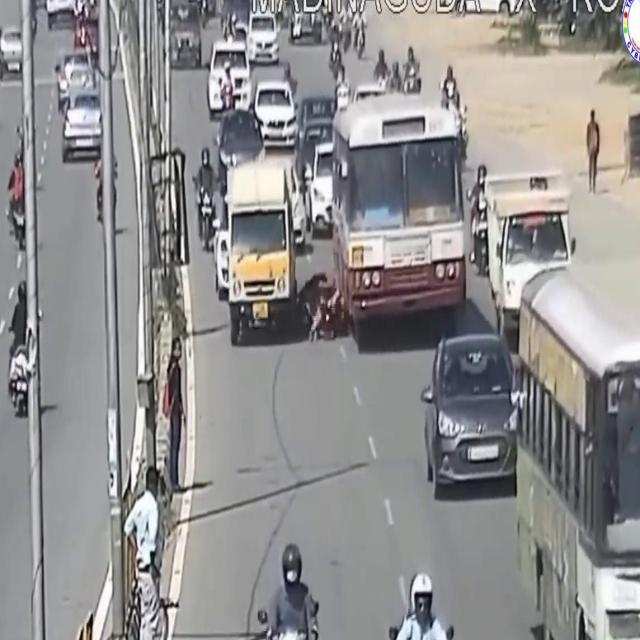accident: (218, 88, 467, 362)
non_accident: (420, 158, 640, 640), (166, 0, 302, 152), (32, 0, 104, 164)
